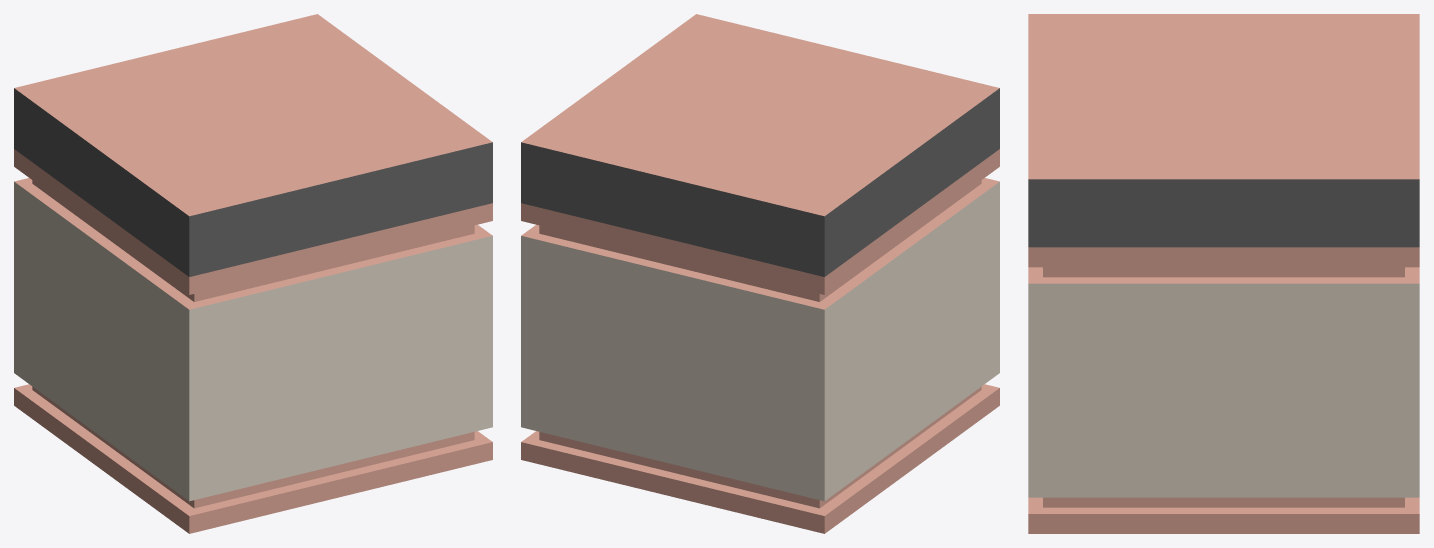
File: V2_Floor_01.fbx
3 views of the same model, side by side, from view 1: azimuth 30°, elevation 25°; view 2: azimuth 150°, elevation 25°; view 3: azimuth 270°, elevation 25° (orthographic). The views are drawn at different scales.
Parts seen in each view (by area): view 1: Cube.342; view 2: Cube.342; view 3: Cube.342.
Part boxes in pixels (x1,y1,x2,y2): Cube.342: (14,14,492,533); Cube.342: (521,14,999,533); Cube.342: (1028,14,1419,533).
Bounding box in the file's own units: 100 × 100 × 100.
